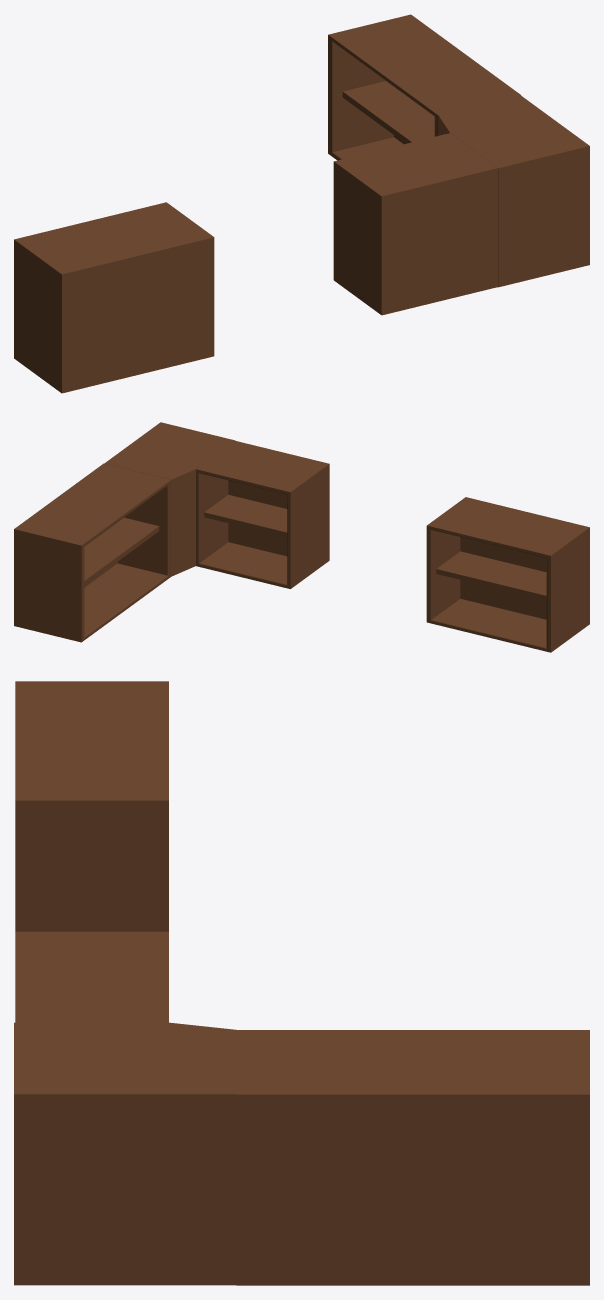
The model's file is Cabinets.fbx.
3 renders of one model, top to bottom at view 1: azimuth 30°, elevation 25°; view 2: azimuth 150°, elevation 25°; view 3: azimuth 270°, elevation 25°, orthographic. The views are drawn at different scales.
Visible parts, largest first — view 1: Cabinet, Cabinet.001, Cabinets, Cabinet.002; view 2: Cabinet.002, Cabinet, Cabinet.001, Cabinets; view 3: Cabinet.002, Cabinets, Cabinet, Cabinet.001.
Part boxes in pixels (x1,y1,x2,y2): Cabinet: [14, 202, 214, 393]; Cabinet.001: [333, 133, 497, 315]; Cabinets: [438, 95, 589, 287]; Cabinet.002: [328, 14, 521, 160]; Cabinet.002: [14, 463, 171, 642]; Cabinet: [426, 497, 589, 652]; Cabinet.001: [196, 440, 329, 588]; Cabinets: [104, 422, 234, 576]; Cabinet.002: [236, 1030, 589, 1285]; Cabinets: [14, 1022, 236, 1285]; Cabinet: [15, 681, 168, 931]; Cabinet.001: [15, 931, 168, 1022].
Size of the model in its own units: 5125 by 1104 by 3017.
